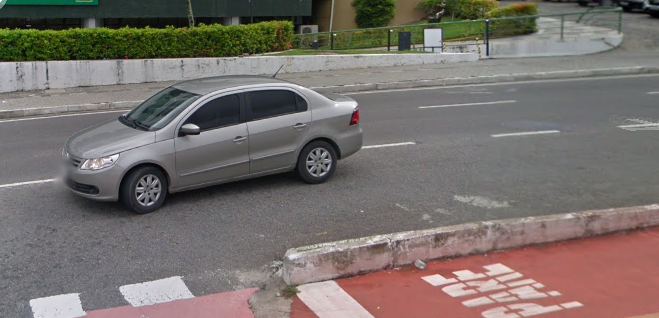car: (64, 64, 363, 216)
